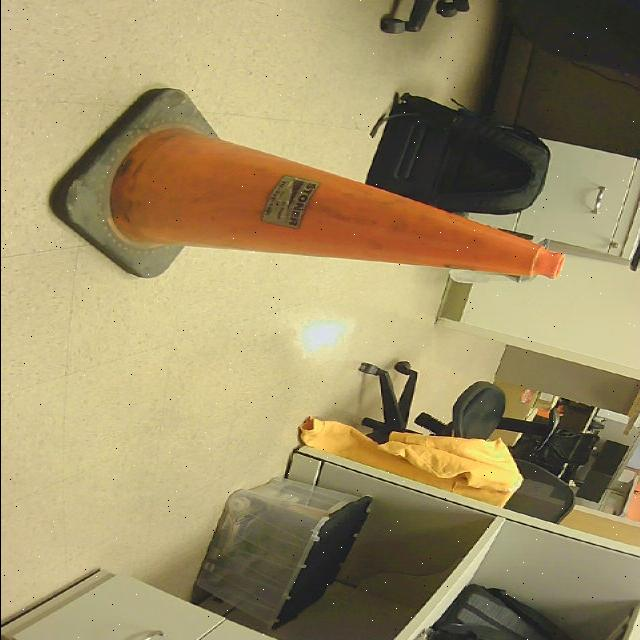traffic cone: (48, 89, 565, 282)
